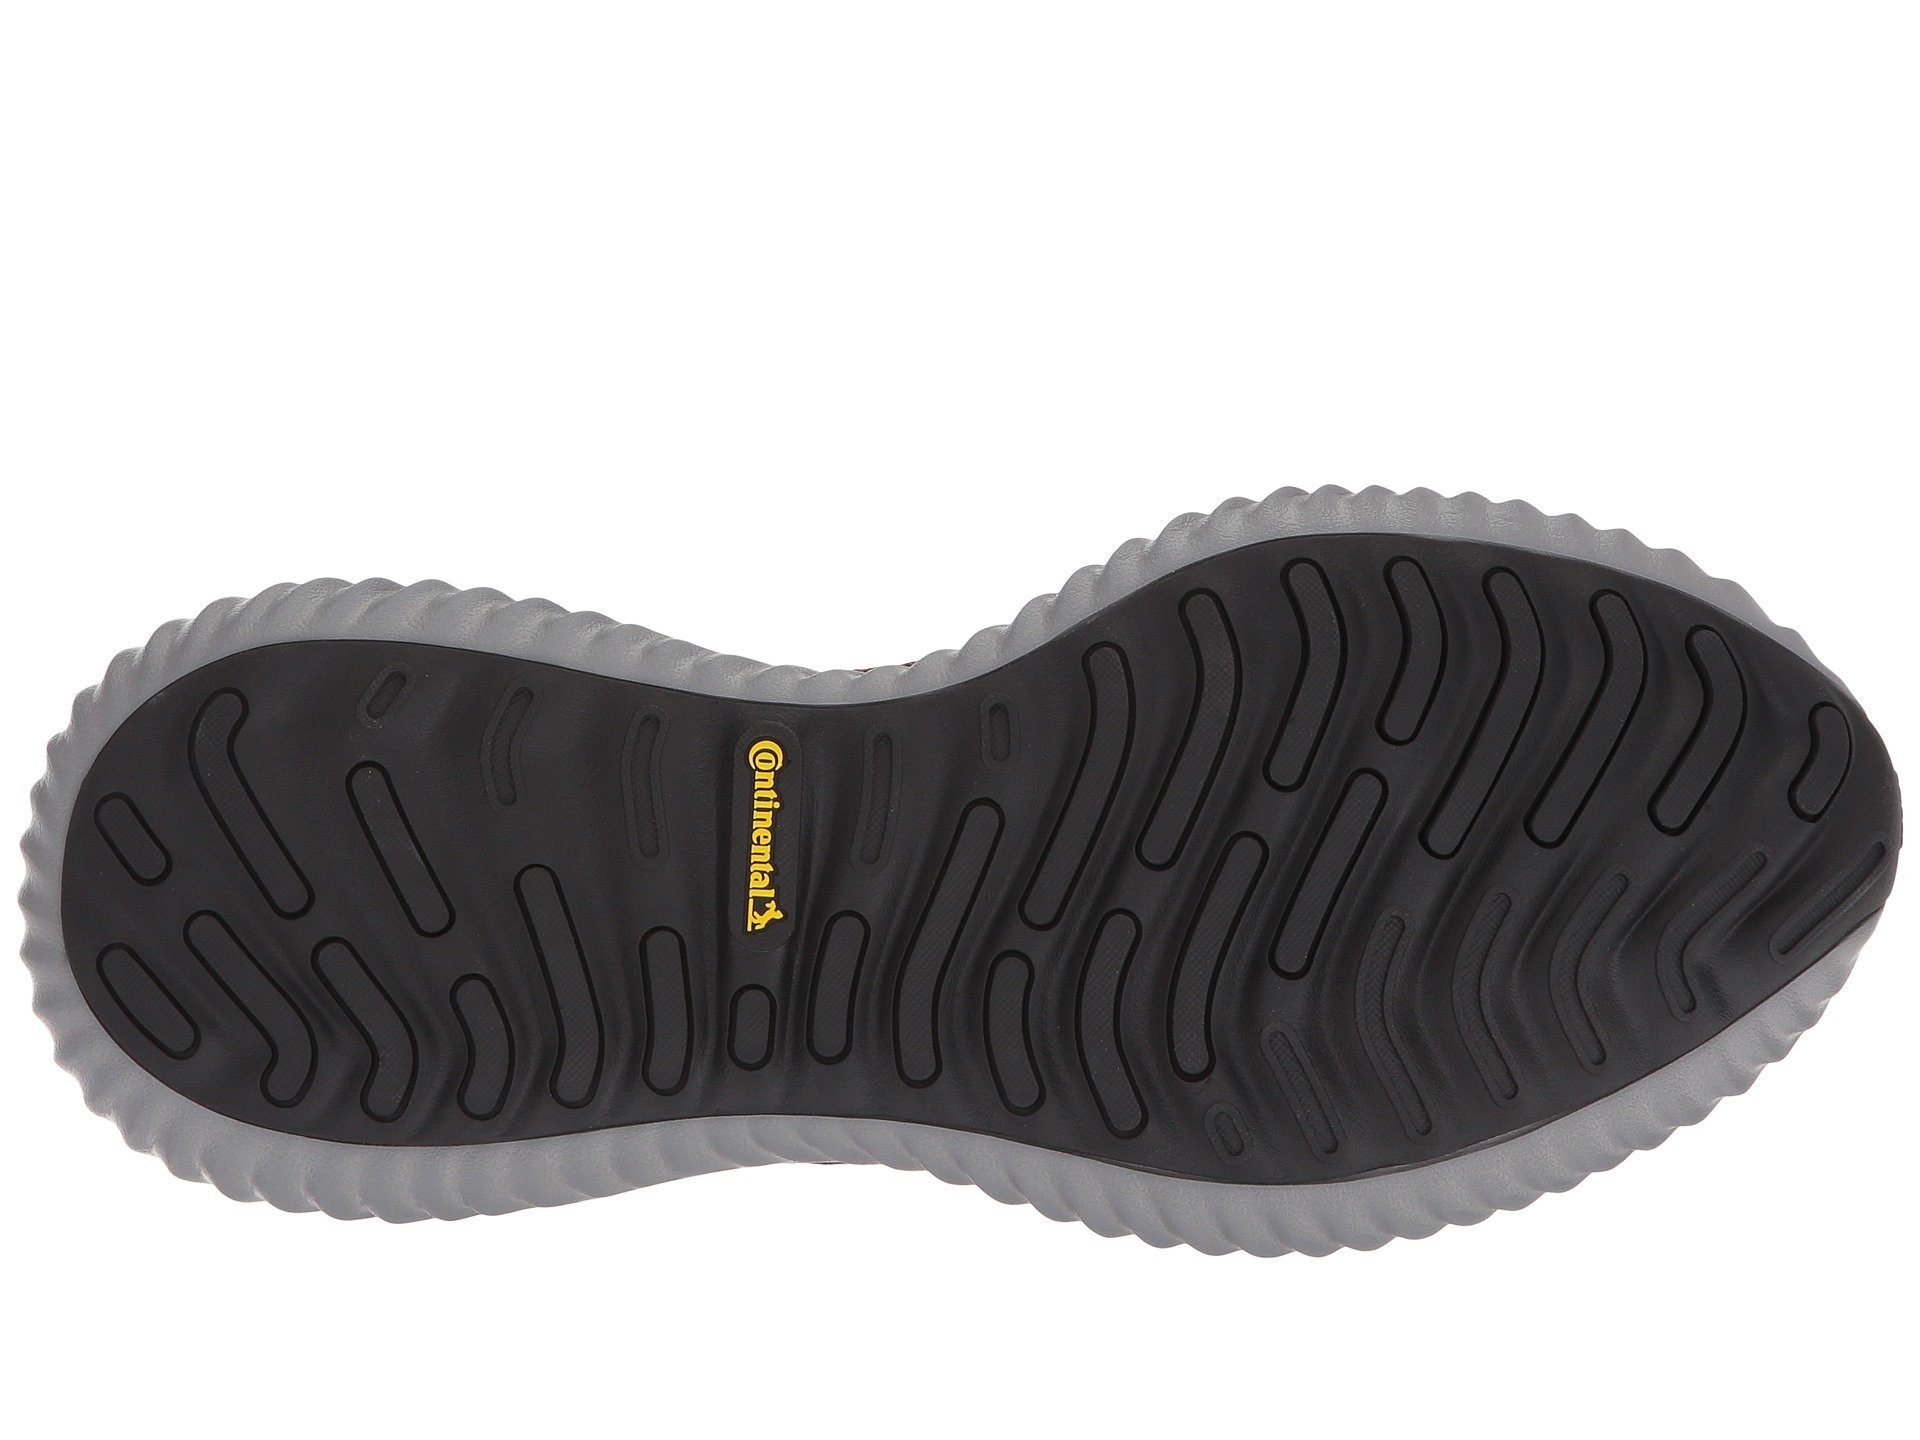chevron: (1147, 722, 1574, 1184), (79, 791, 472, 1154)
circle: (635, 703, 909, 944)
line: (635, 703, 909, 944)
quad: (1147, 722, 1574, 1184), (79, 791, 472, 1154)
text: (635, 703, 909, 944)
